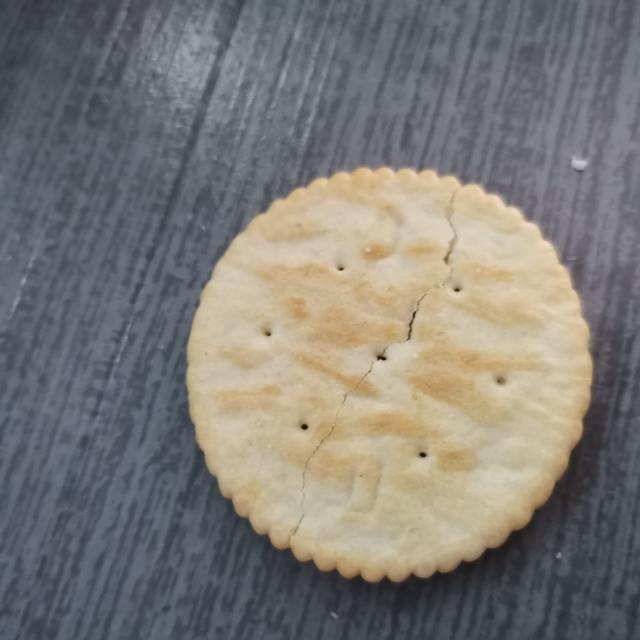Fracture: (263, 176, 474, 562)
